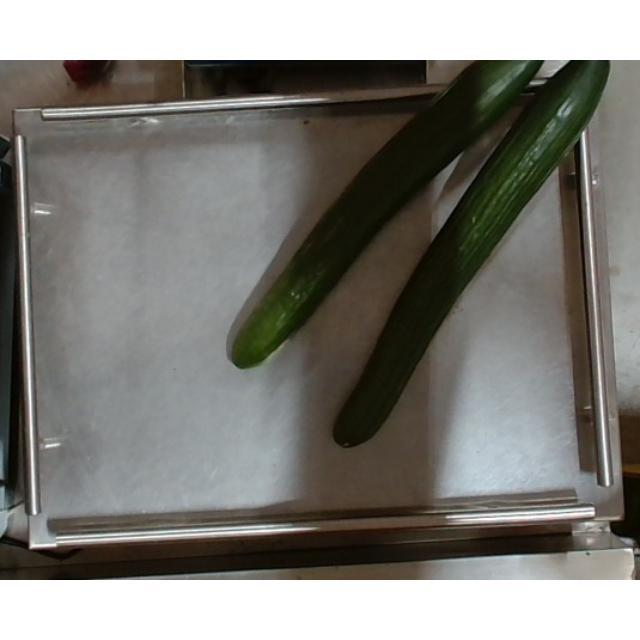cucumber: (312, 61, 614, 452), (227, 60, 559, 370)
